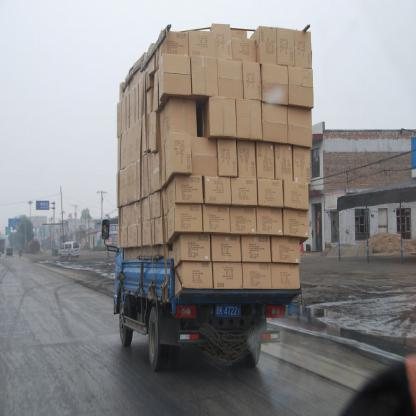overloaded-truck: (119, 35, 314, 306)
